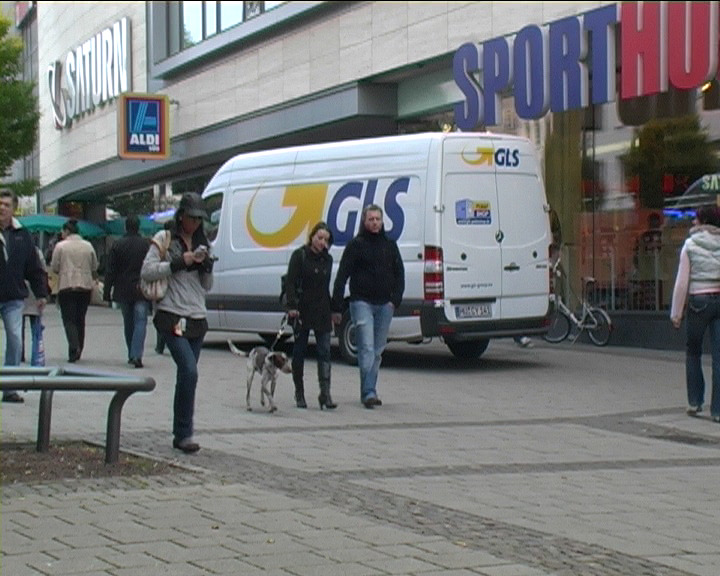undeflect: (150, 191, 228, 277), (352, 205, 398, 258)
